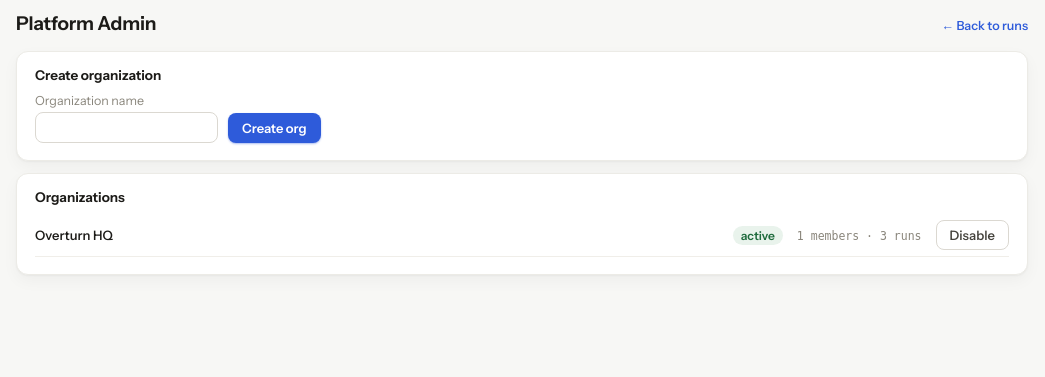
Test case: lists orgs, creates one, shows first invite link, toggles status
Check: the text "Overturn HQ" is shown, box [35,226,113,242]
Type "NewCo" into the field labelled "Organization name" at coordinates (126, 128), box [35,112,218,143]
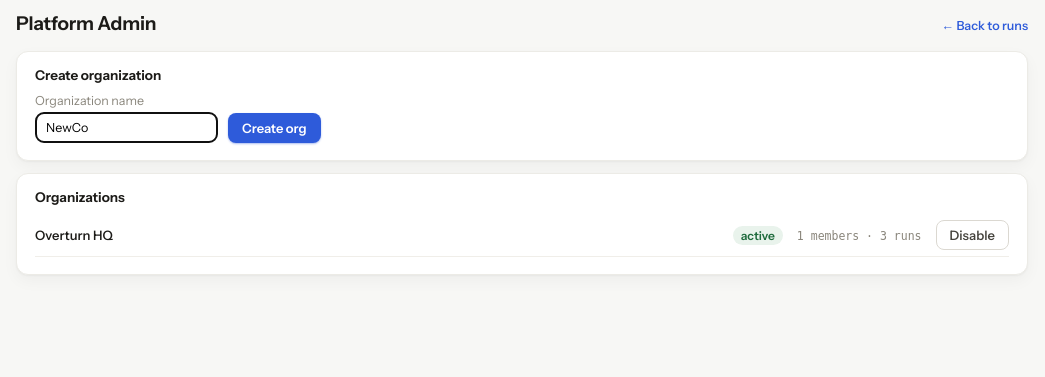
Click the button "Create org" at coordinates (274, 128), box [228,113,321,143]
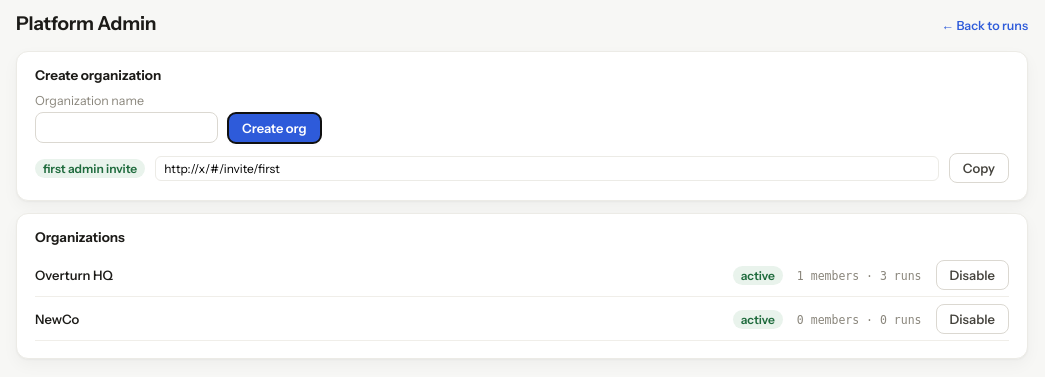
Check: the field showing "http://x/#/invite/first" is shown, box [155,156,939,180]
Check: the text "NewCo" is shown, box [35,310,79,326]
